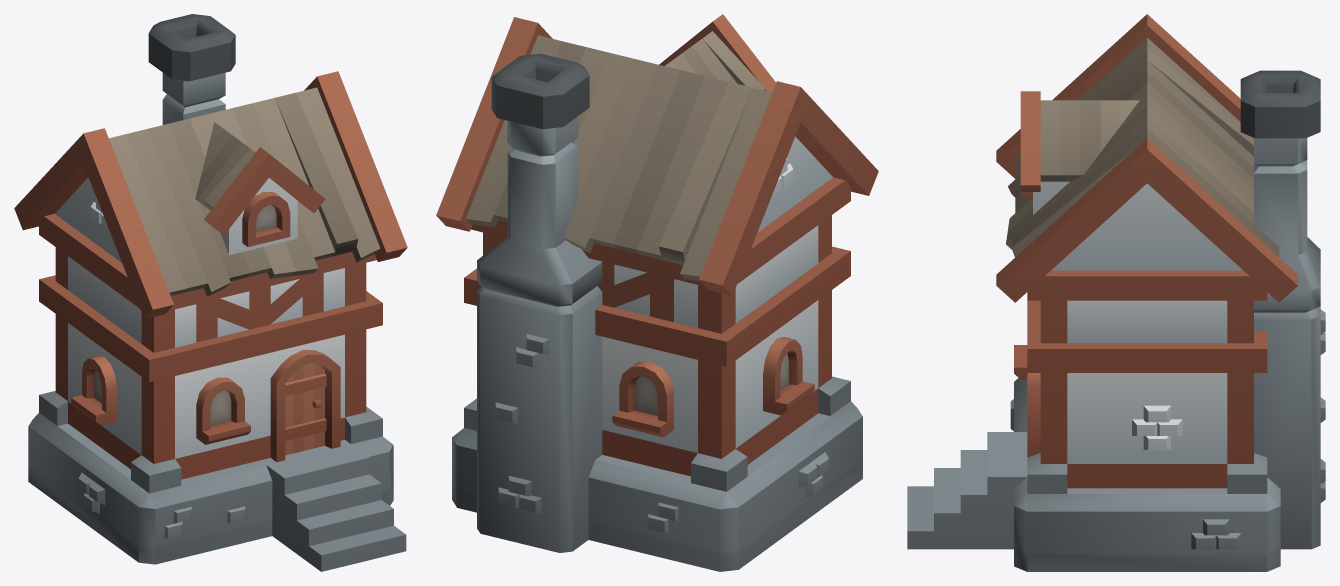
The model's file is town.glb.
The picture shows the model from 3 angles, left to right: view 1: azimuth 30°, elevation 25°; view 2: azimuth 150°, elevation 25°; view 3: azimuth 270°, elevation 25°; orthographic projection. The views are drawn at different scales.
Parts seen in each view (by area): view 1: building_home_B_blue; view 2: building_home_B_blue; view 3: building_home_B_blue.
Boxes of the visible parts, x1,y1,x2,y2 form: building_home_B_blue: (14, 14, 407, 571); building_home_B_blue: (436, 14, 878, 571); building_home_B_blue: (907, 14, 1325, 571).
Size of the model in its own units: 0.8749 by 1.28 by 1.1.
Materials: 1 (1 with a texture image).
